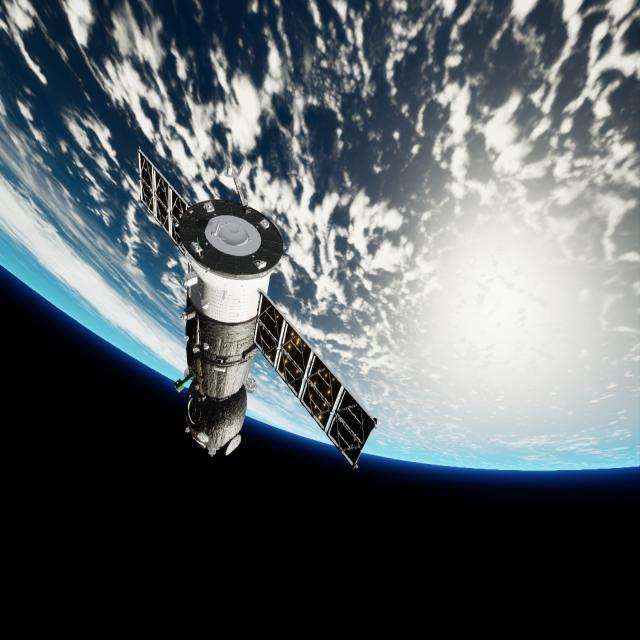Satellites revolving around earth: (134, 145, 378, 472)
